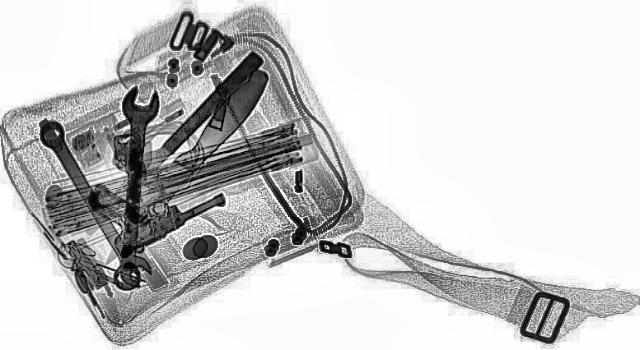Gun: (34, 156, 236, 258)
Knife: (88, 66, 280, 268), (82, 50, 268, 227)
Wrench: (27, 120, 164, 290), (106, 85, 162, 291)
